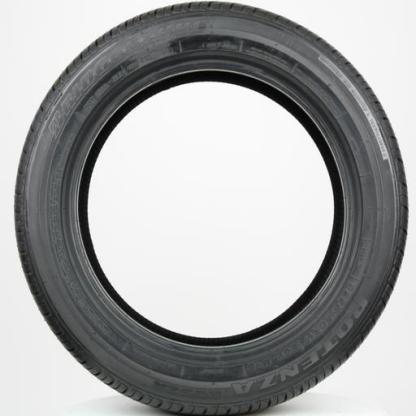Tire: (11, 0, 408, 415)
